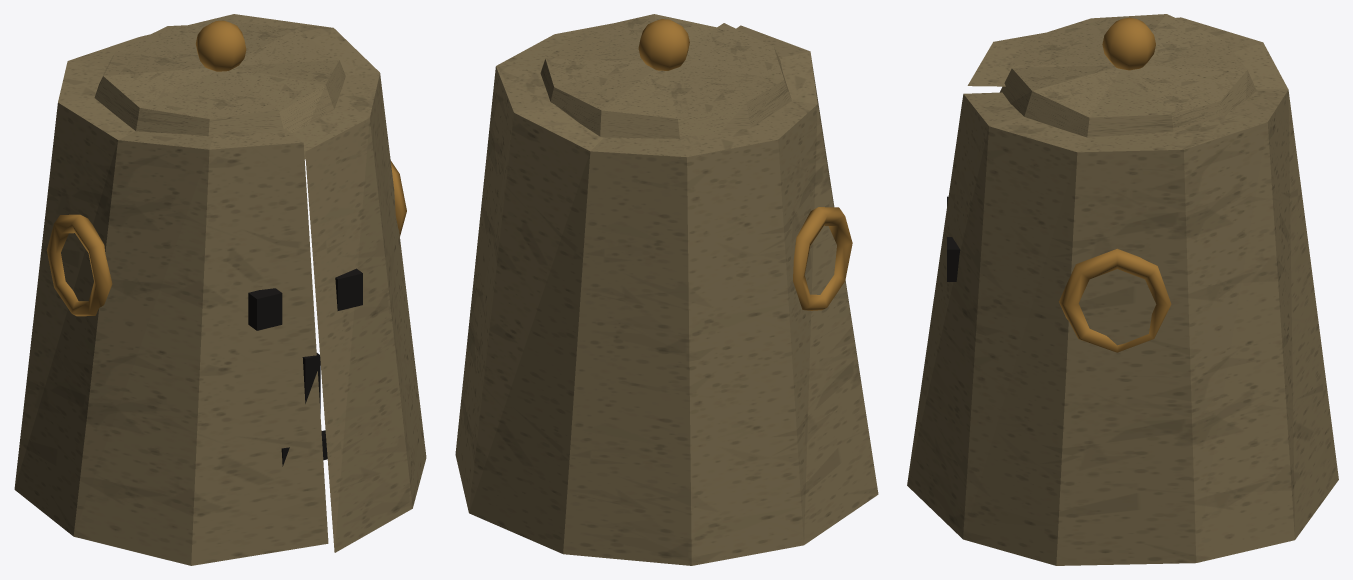
The model's file is stone-wanderer-burial-urn-v1.glb.
3 views of the same model, side by side, from view 1: azimuth 30°, elevation 25°; view 2: azimuth 150°, elevation 25°; view 3: azimuth 270°, elevation 25° (orthographic). The views are drawn at different scales.
Parts seen in each view (by area): view 1: Part_0, Part_1, Part_3, Part_2, Part_5, Part_6, Part_7, Part_4; view 2: Part_0, Part_1, Part_3, Part_2; view 3: Part_0, Part_1, Part_4, Part_2.
Part boxes in pixels (bbox=[...]): Part_0: bbox=[14, 14, 426, 565]; Part_1: bbox=[94, 22, 345, 159]; Part_3: bbox=[46, 214, 112, 316]; Part_2: bbox=[195, 20, 246, 71]; Part_5: bbox=[248, 288, 282, 330]; Part_6: bbox=[335, 268, 362, 310]; Part_7: bbox=[302, 353, 320, 413]; Part_4: bbox=[390, 160, 406, 235]; Part_0: bbox=[455, 23, 878, 565]; Part_1: bbox=[540, 14, 791, 138]; Part_3: bbox=[793, 207, 852, 310]; Part_2: bbox=[638, 19, 689, 70]; Part_0: bbox=[907, 17, 1338, 565]; Part_1: bbox=[999, 14, 1256, 137]; Part_4: bbox=[1059, 248, 1171, 352]; Part_2: bbox=[1102, 17, 1155, 70].
Size of the model in its own units: 0.698 by 0.8575 by 0.7231.
3 materials, 1 textured.
